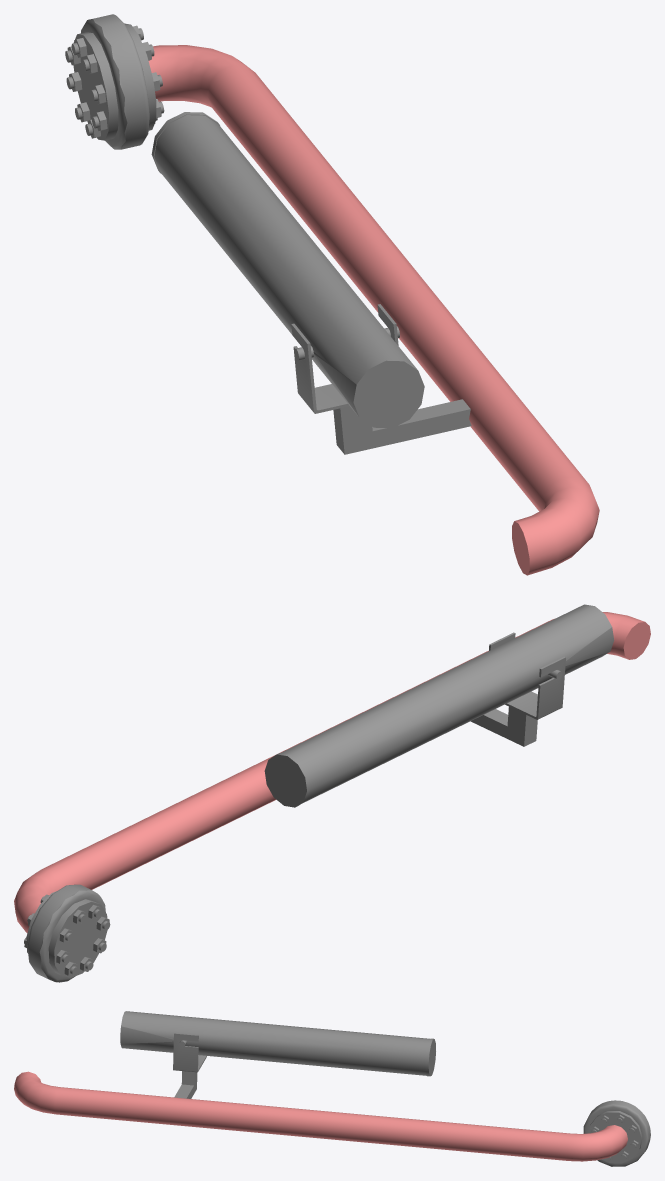
The model's file is SM_SUG_All_Right_01_1.gltf.
3 views of the same model, one above another, from view 1: azimuth 30°, elevation 25°; view 2: azimuth 150°, elevation 25°; view 3: azimuth 270°, elevation 25° (orthographic). The views are drawn at different scales.
Parts seen in each view (by area): view 1: SM_SUG_All_Right_01_1; view 2: SM_SUG_All_Right_01_1; view 3: SM_SUG_All_Right_01_1.
Part boxes in pixels (x1,y1,x2,y2): SM_SUG_All_Right_01_1: (65, 14, 599, 575); SM_SUG_All_Right_01_1: (14, 604, 650, 982); SM_SUG_All_Right_01_1: (14, 1011, 650, 1166).
Bounding box in the file's own units: 0.488 × 0.2645 × 1.55.
